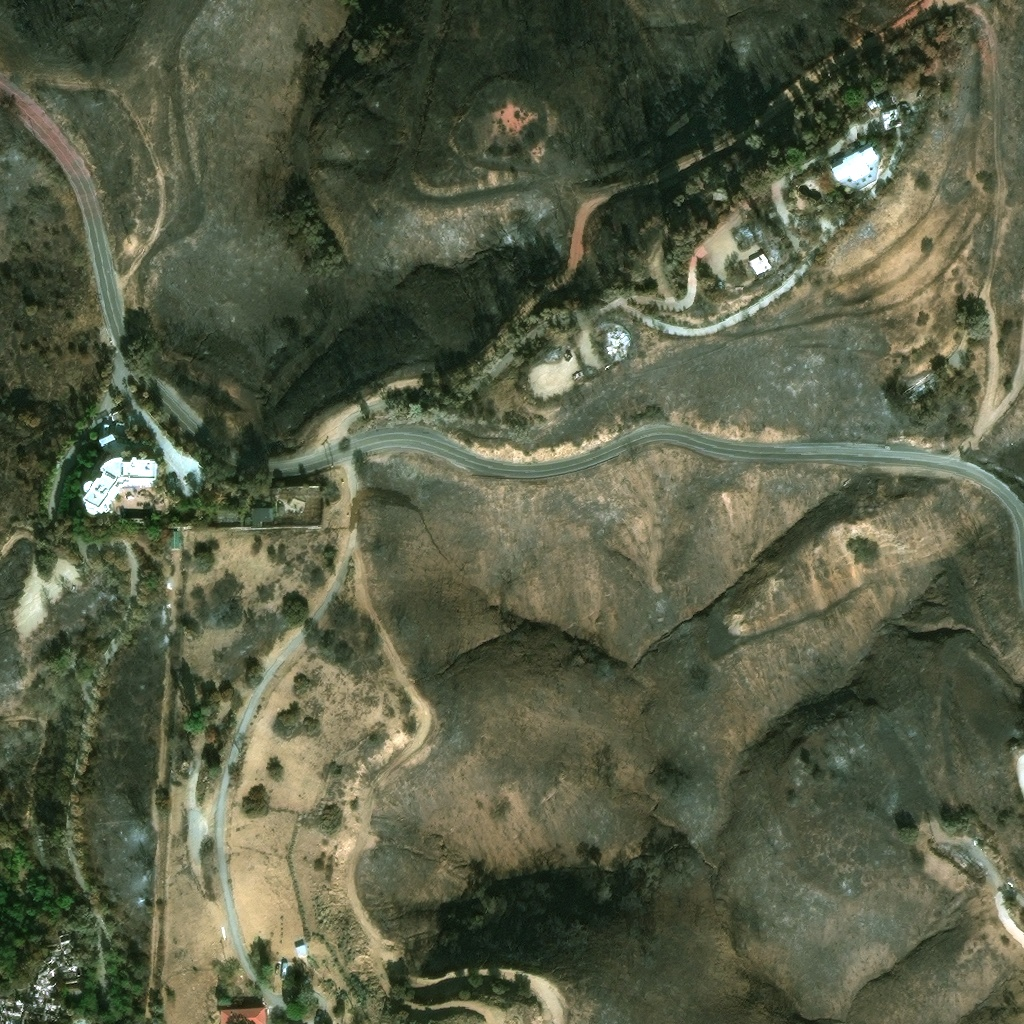0 no-damage: (79, 450, 155, 508), (829, 144, 878, 188), (219, 1006, 267, 1023), (745, 251, 771, 274), (245, 506, 273, 524), (165, 527, 179, 548), (96, 430, 115, 445), (110, 404, 126, 416), (295, 943, 307, 956), (105, 409, 116, 420), (113, 419, 125, 428), (233, 512, 240, 525), (216, 512, 222, 524)
1 minor-damage: (882, 106, 901, 129), (865, 96, 878, 108)
3 destroyed: (900, 366, 939, 401), (40, 947, 79, 977), (603, 324, 632, 360), (23, 976, 52, 1011), (952, 842, 985, 870), (0, 995, 29, 1023), (56, 929, 74, 945), (41, 997, 59, 1013), (936, 837, 953, 853), (557, 339, 570, 352)
